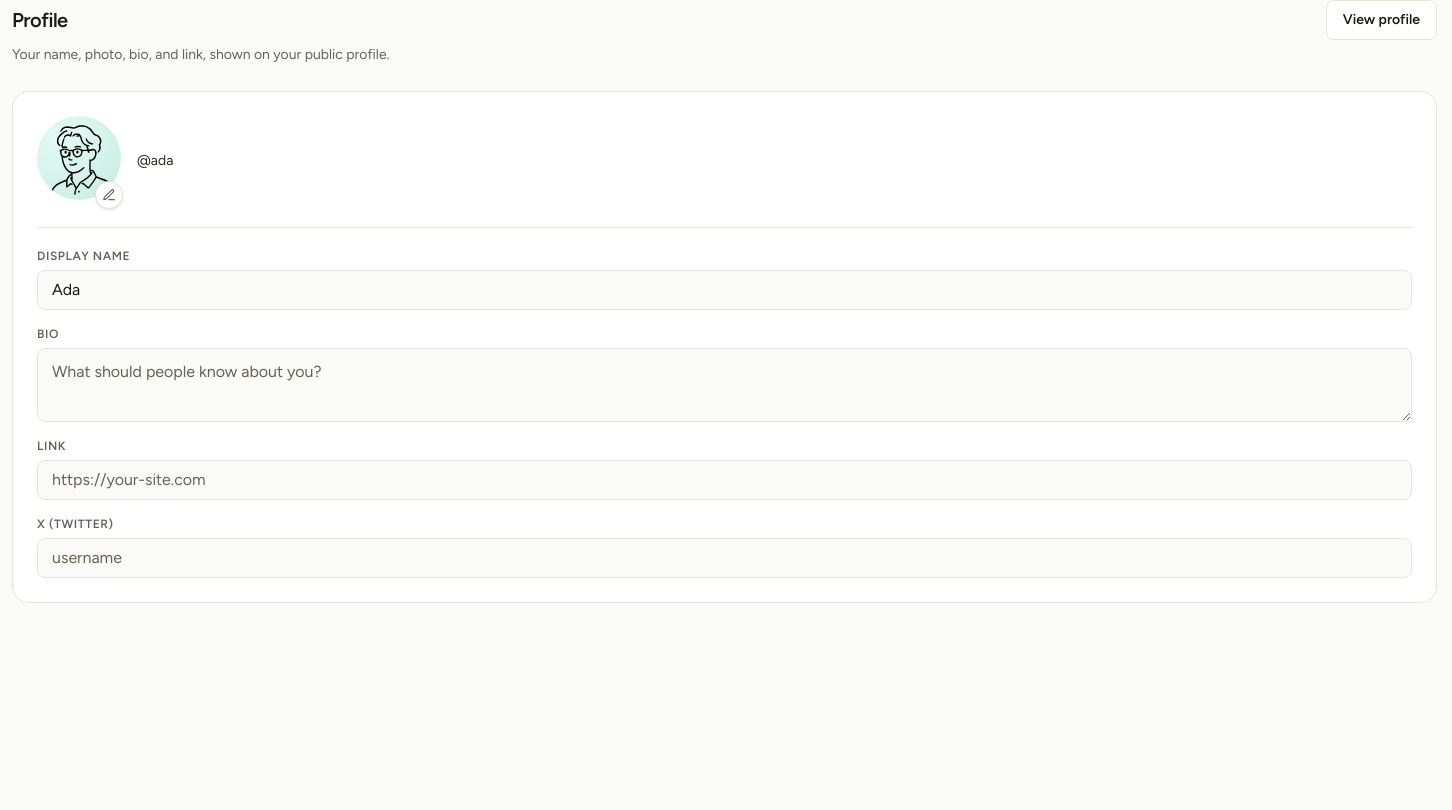
Test case: EditDisplayName › shows the Save bar only once a field changes
This screenshot has width=1452, height=810.
Expected: the button "Save" is not shown
Replace the text in the field named "Display name" with "Ada Lovelace" at (724, 290), box [37,270,1412,310]
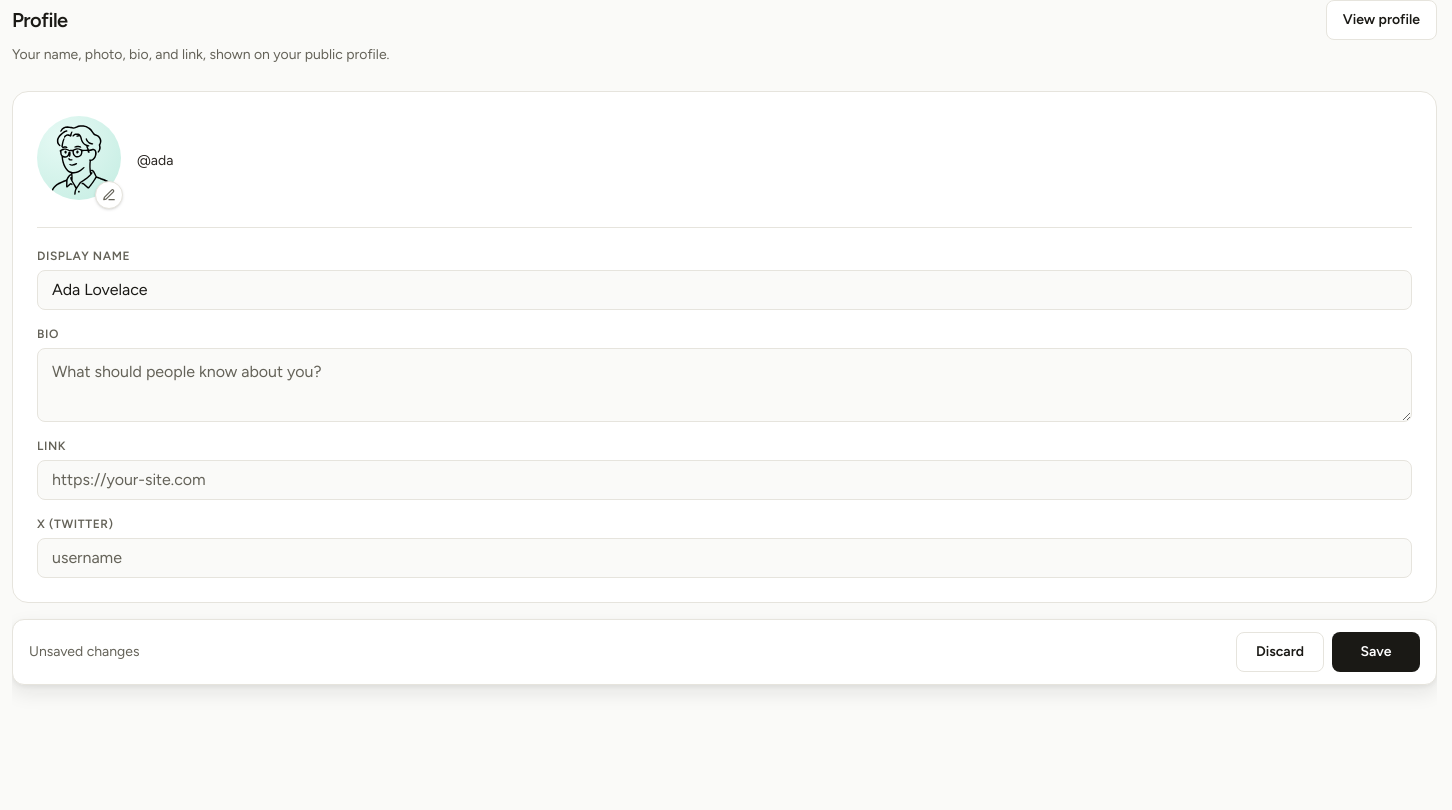
Now the button "Save" is enabled, box [1332,632,1420,672]
